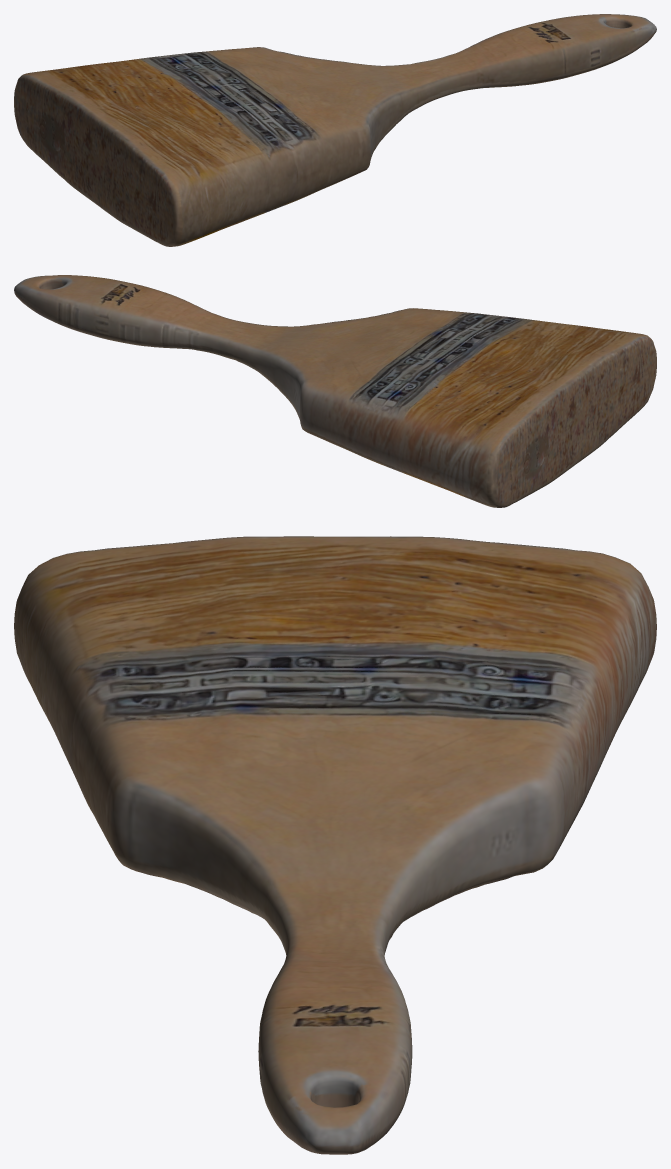
File: Paintbrush_0221094823_stylize.fbx
The picture shows the model from 3 angles, top to bottom: view 1: azimuth 30°, elevation 25°; view 2: azimuth 150°, elevation 25°; view 3: azimuth 270°, elevation 25°; orthographic projection. The views are drawn at different scales.
Visible parts, largest first — view 1: Mesh_0.007; view 2: Mesh_0.007; view 3: Mesh_0.007.
Boxes of the visible parts, bbox=[...] form: Mesh_0.007: bbox=[14, 14, 656, 246]; Mesh_0.007: bbox=[14, 275, 656, 507]; Mesh_0.007: bbox=[14, 536, 656, 1154].
Size of the model in its own units: 200 by 30.3 by 103.
Materials: 1 (1 with a texture image).
